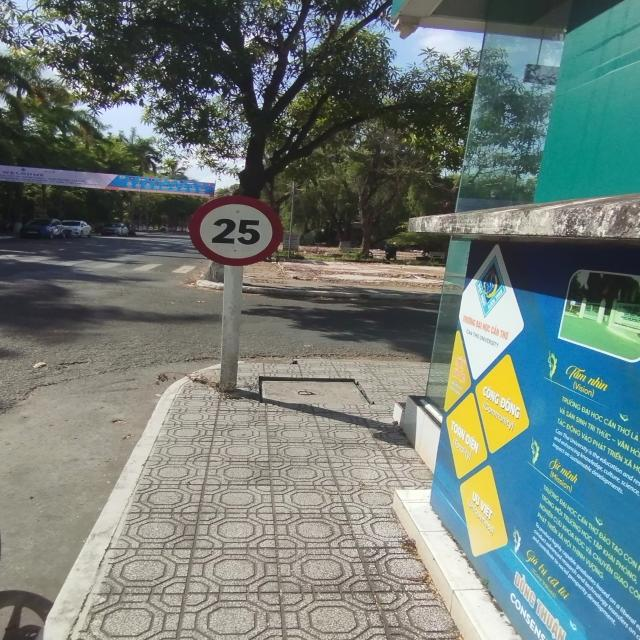Tre_Em: (188, 195, 284, 267)
